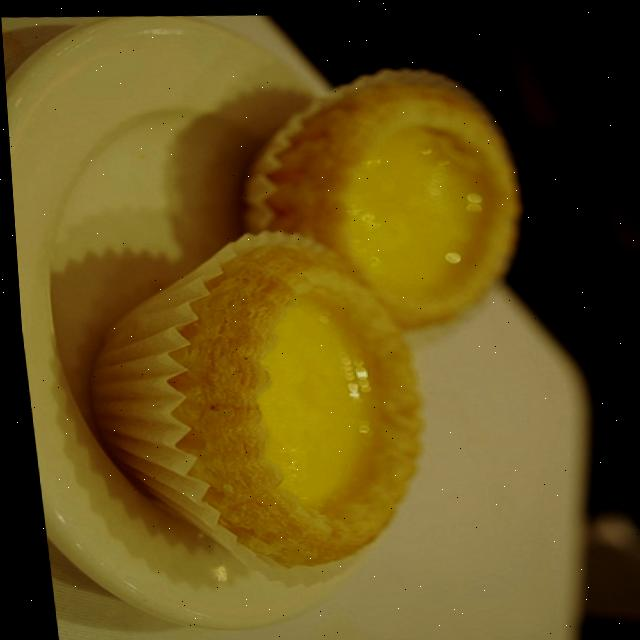炸货点心: (0, 0, 574, 640)
蛋糕甜品: (0, 0, 574, 640)
